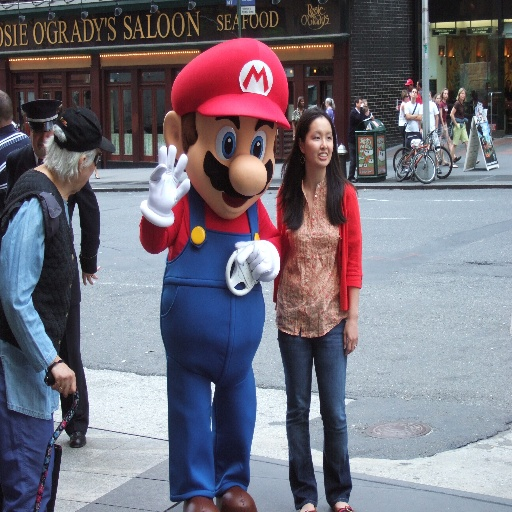hand: (146, 145, 190, 215), (231, 242, 279, 292), (50, 354, 77, 398), (343, 317, 357, 356), (81, 263, 99, 286), (395, 105, 400, 112), (419, 126, 423, 134), (404, 114, 408, 121), (370, 114, 375, 119), (442, 126, 446, 132), (292, 135, 295, 141)
